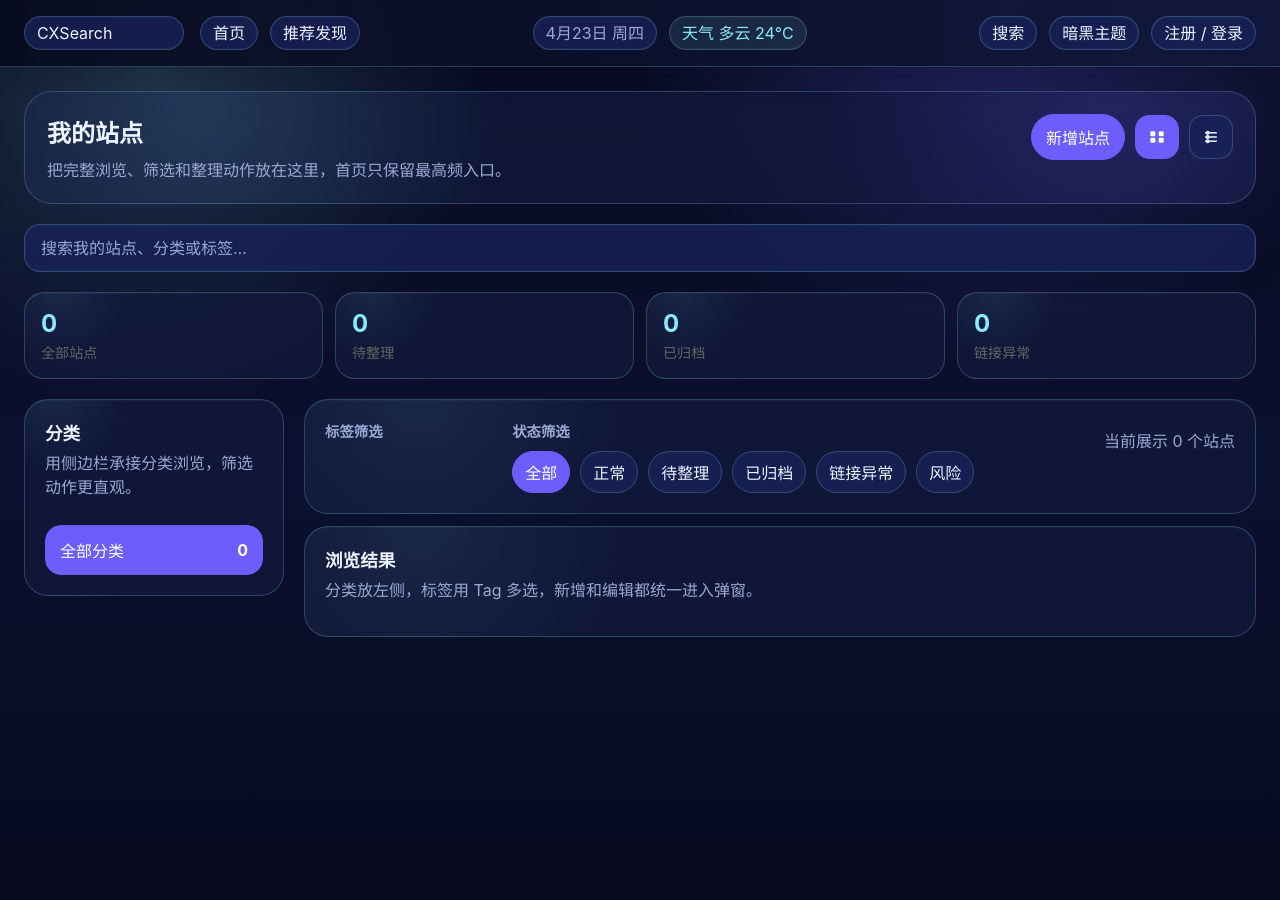
Test case: my sites page › creates a personal site through the backend and refreshes the list
Click the button "新增站点" at (1078, 137), box [1031,114,1125,160]
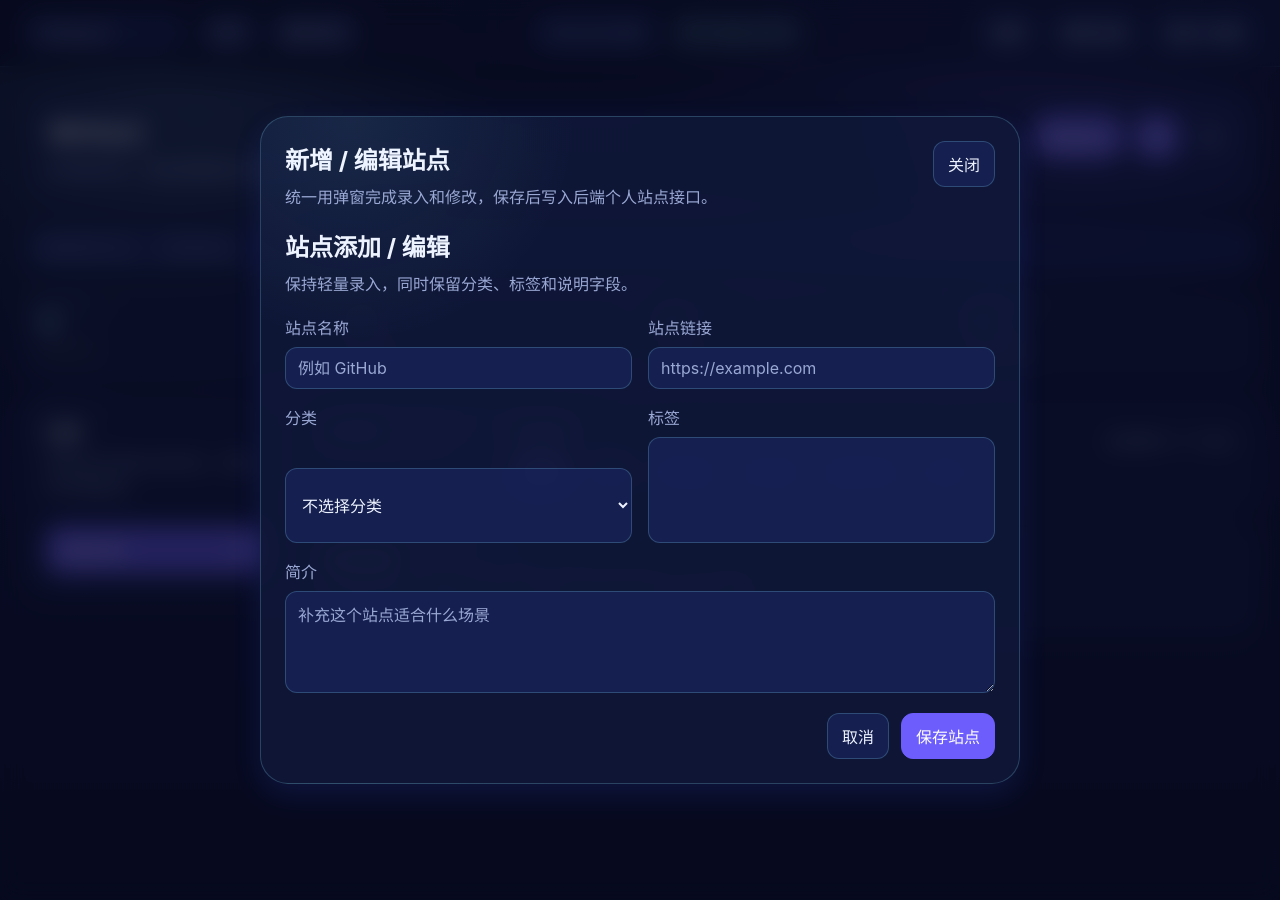
Type "New Remote Site" into the field labelled "站点名称" at (458, 368), box [285,347,632,389]
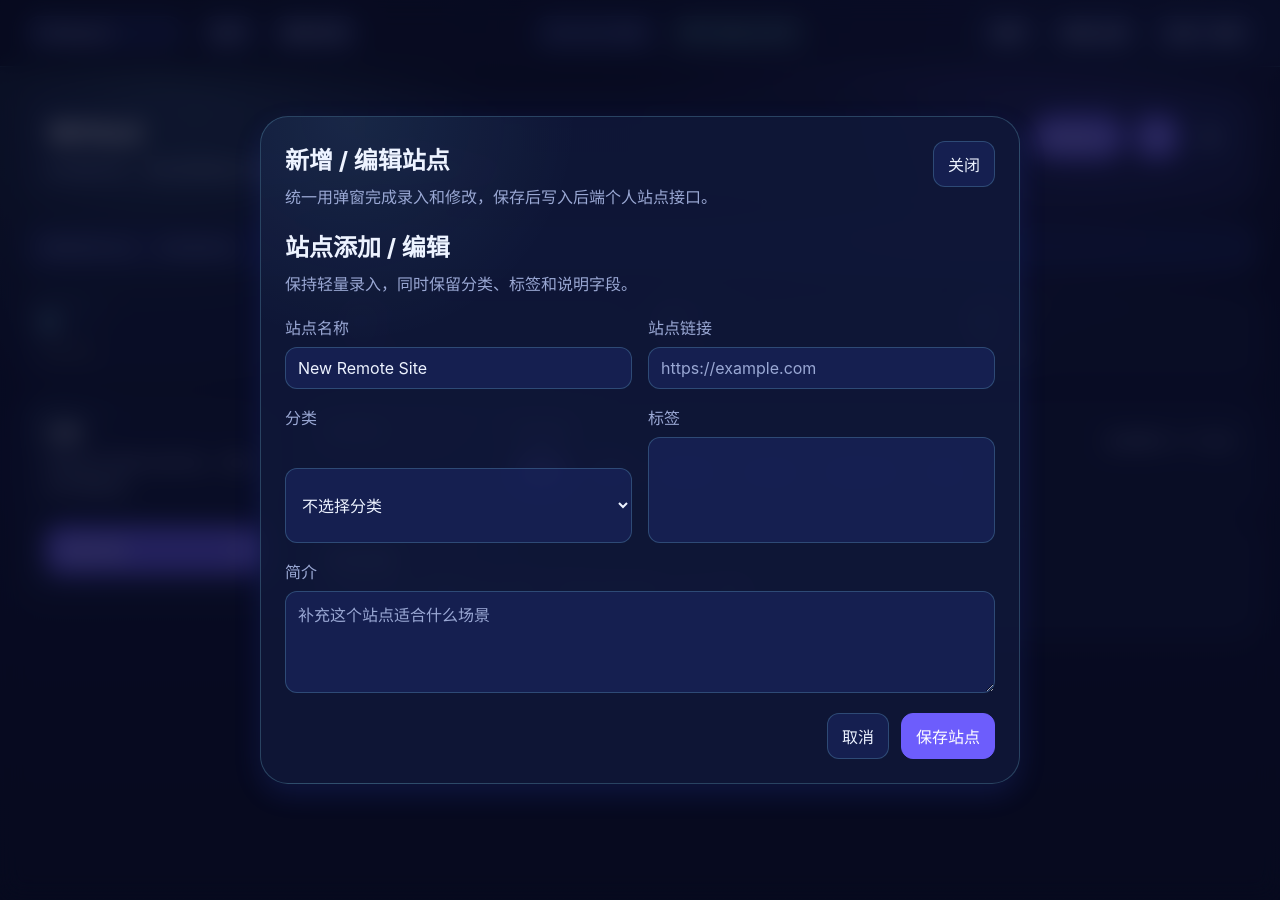
Type "https://example.com/new" into the field labelled "站点链接" at (822, 368), box [648,347,995,389]
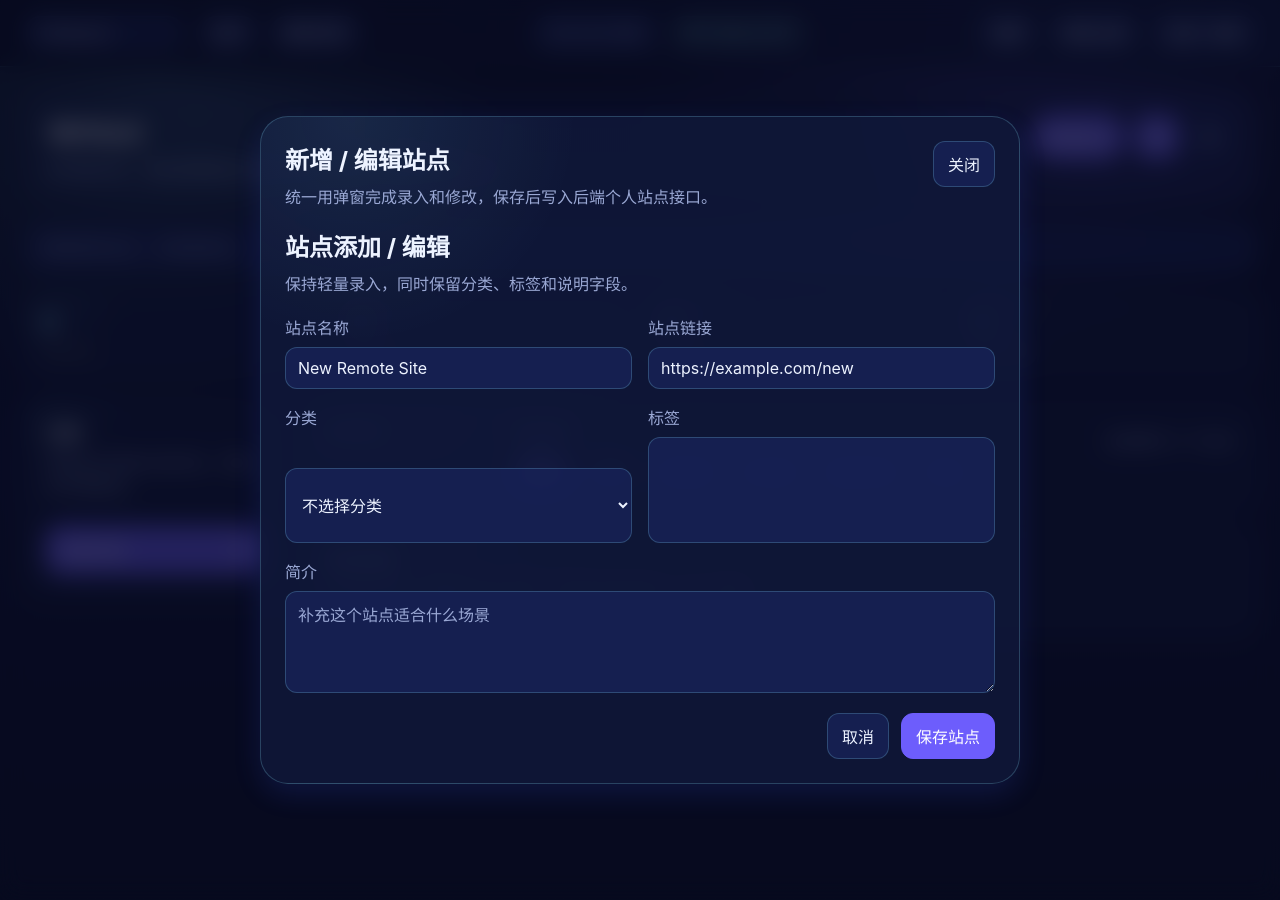
Type "新建远程站点" into the text box labelled "简介" at (640, 642), box [285,591,995,693]
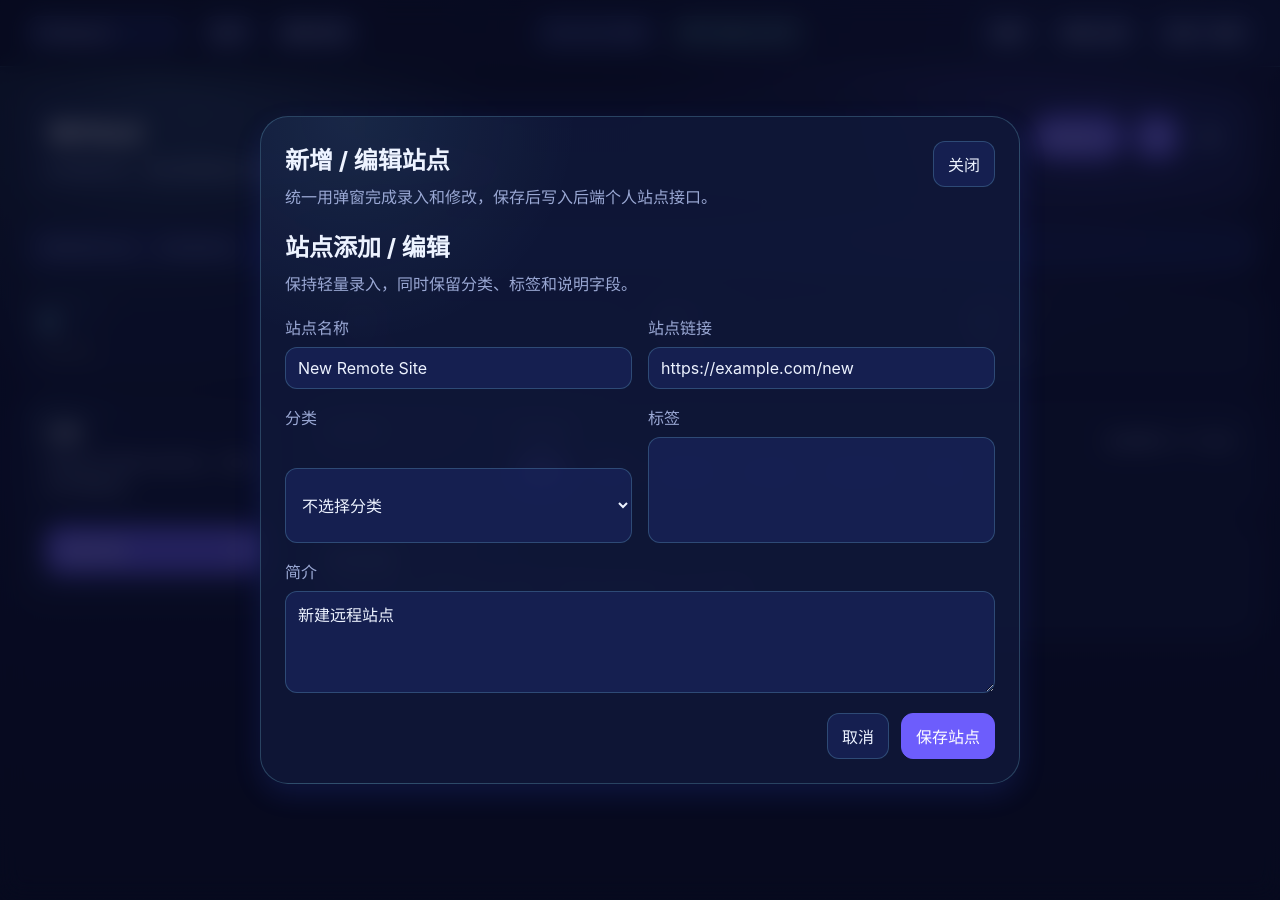
Click the button "保存站点" at (948, 736), box [901,713,995,759]
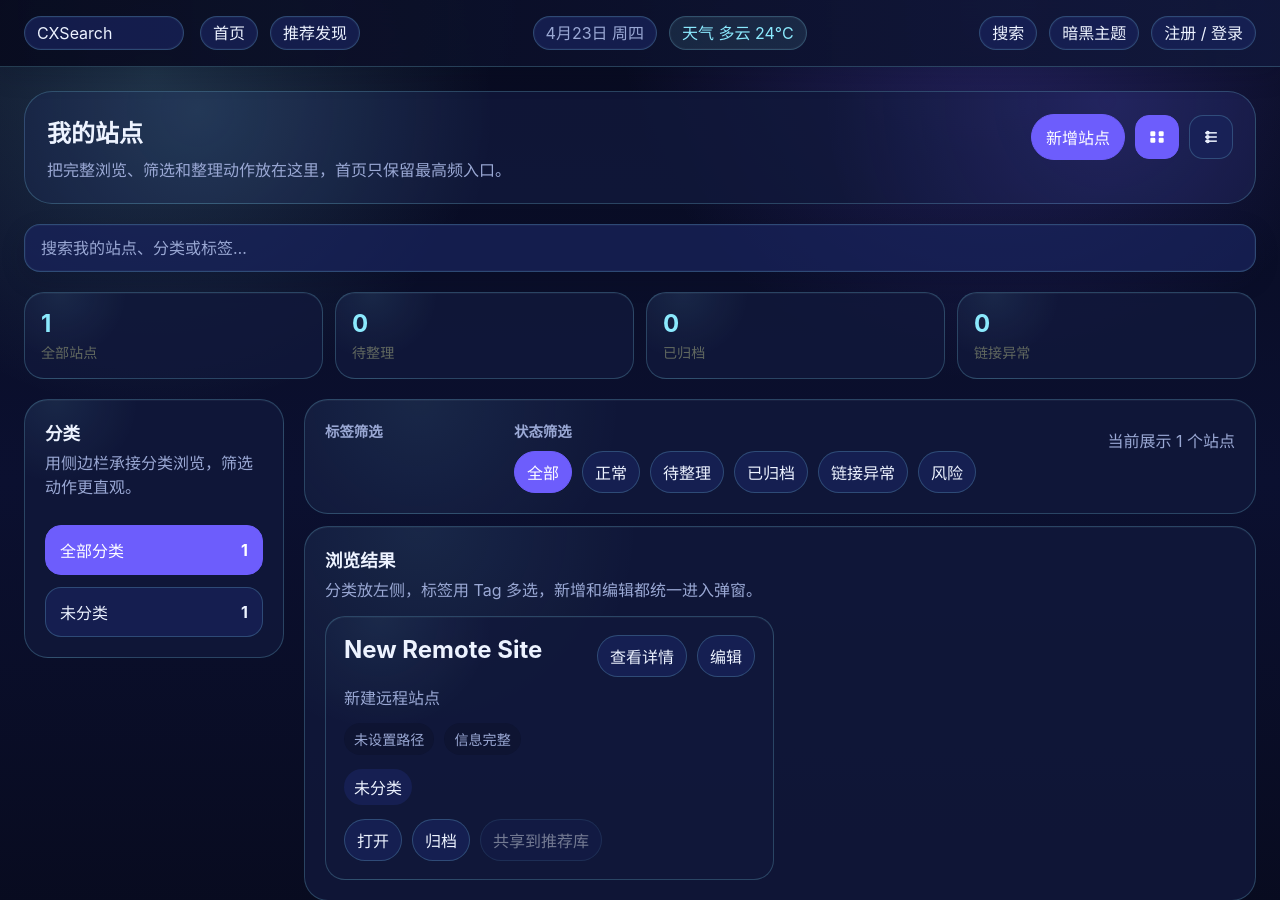
Expected: the heading "New Remote Site" is shown, [344,635,542,664]
Expected: the text "新建远程站点" is shown, [344,688,440,708]
